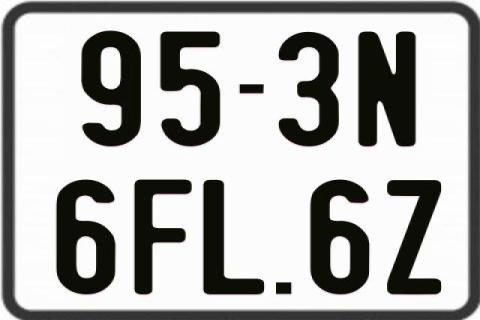0: (308, 178, 371, 298), (81, 29, 145, 147), (279, 30, 344, 146), (158, 31, 220, 147), (54, 180, 114, 298)
F: (133, 178, 192, 294)
L: (200, 179, 267, 297)
N: (357, 31, 416, 151)
Z: (387, 177, 445, 297)
